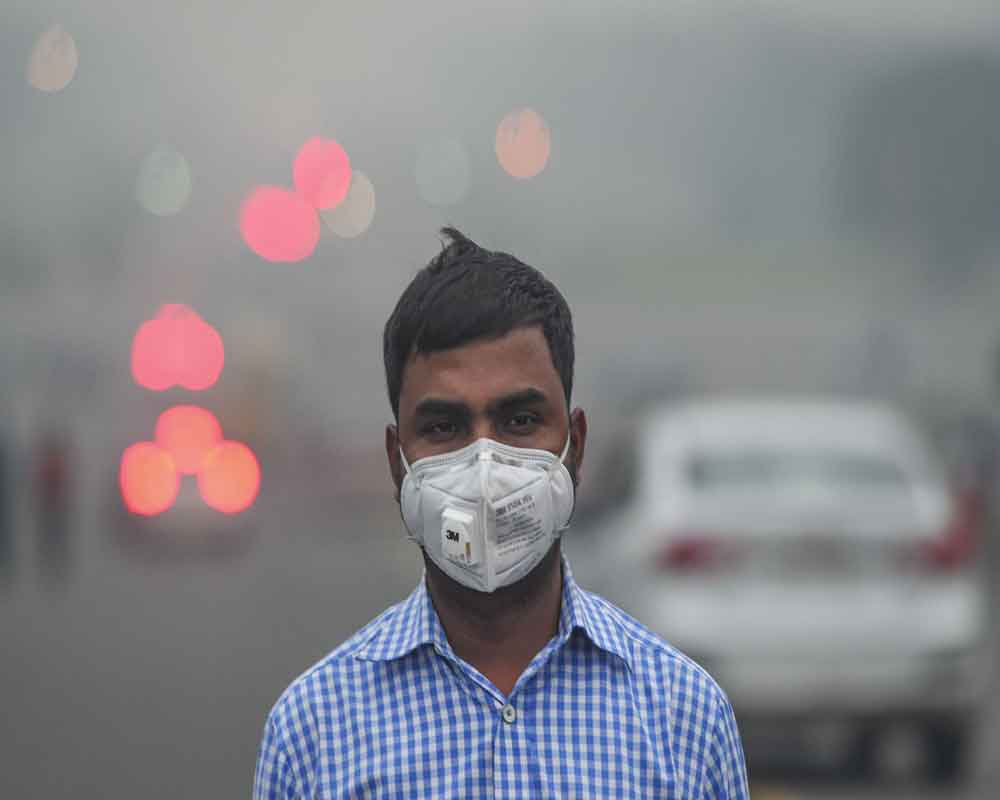mask: (358, 230, 624, 601)
